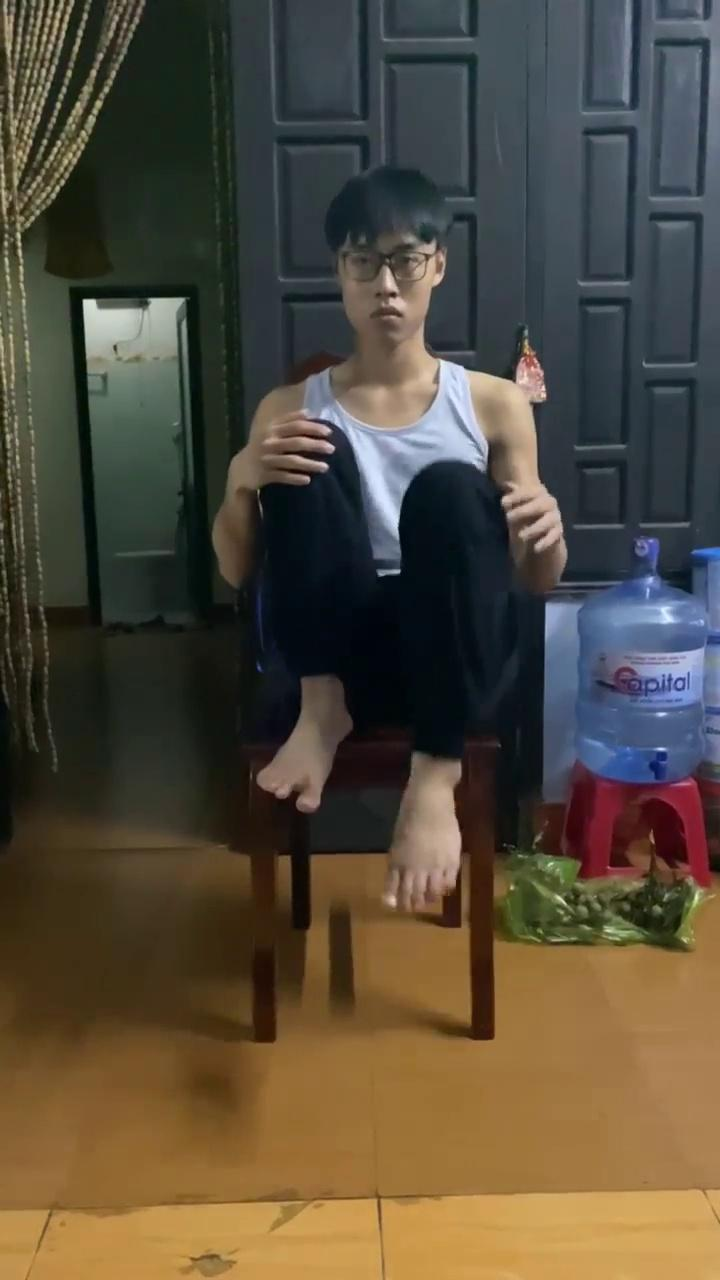BadPosture: (261, 429, 515, 760)
